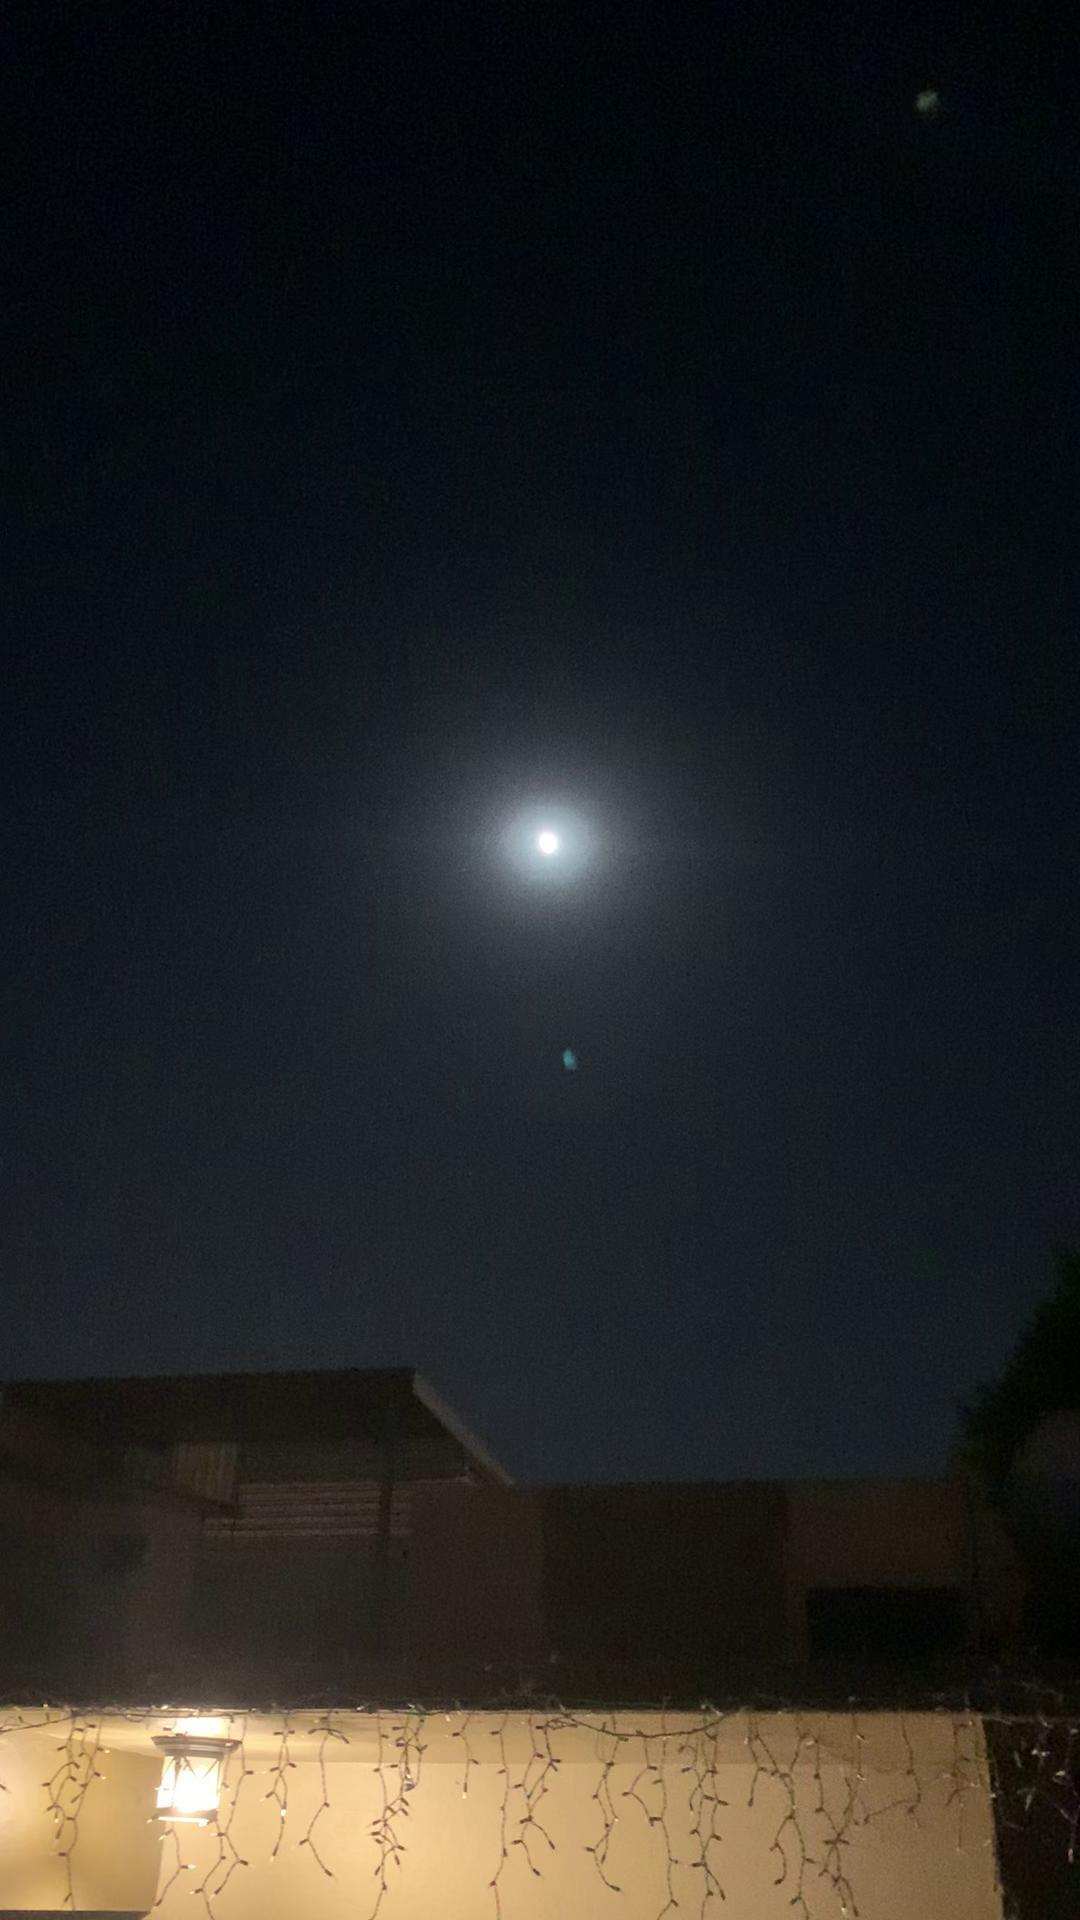moon: (508, 800, 595, 897)
